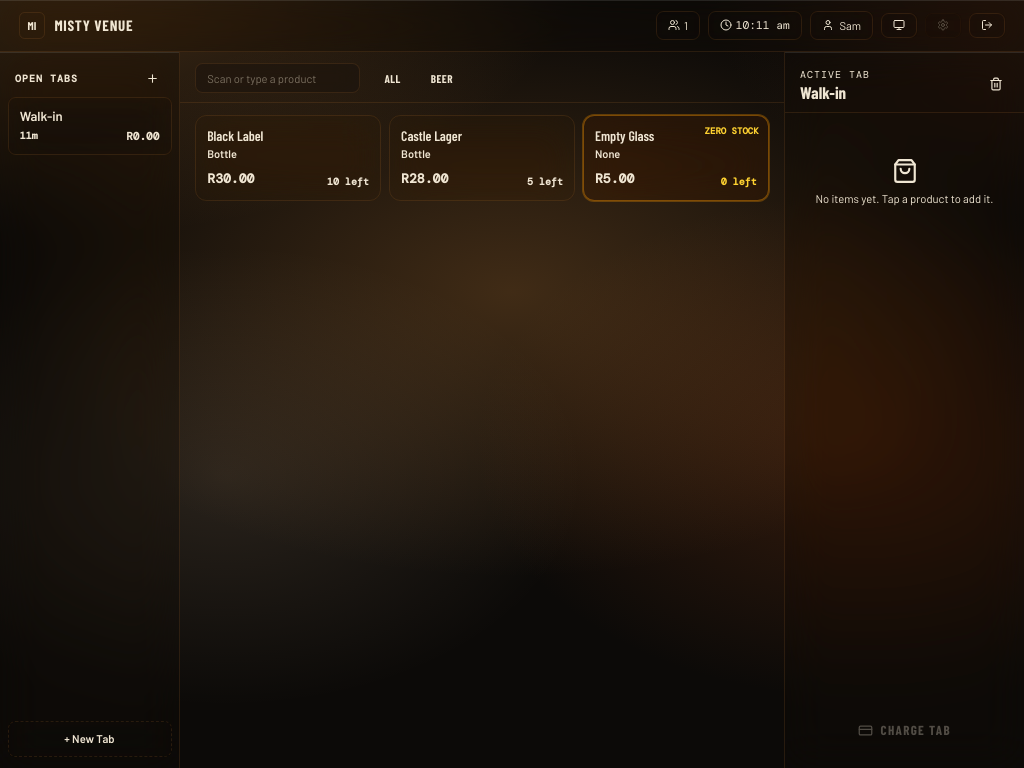
Scenario: cart notifications › confirms one product, a repeat add, a scan, and a second product
Step 1. Click the button with aria-label "Add Black Label" → (288, 158), box [195,115,381,201]
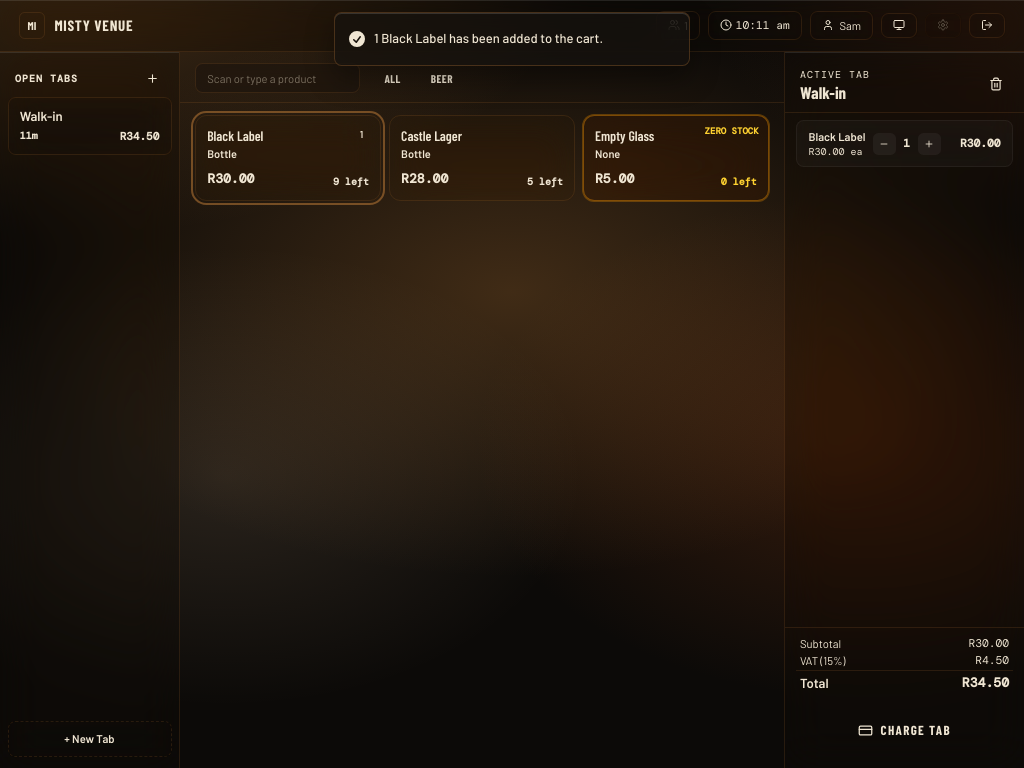
Check: the text "1 Black Label has been added to the cart." is shown, box [374,29,603,48]
Check: the text named "Quantity 1" is shown, box [903,136,910,150]
Step 2. Click the button with aria-label "Add Black Label" → (288, 158), box [195,115,381,201]
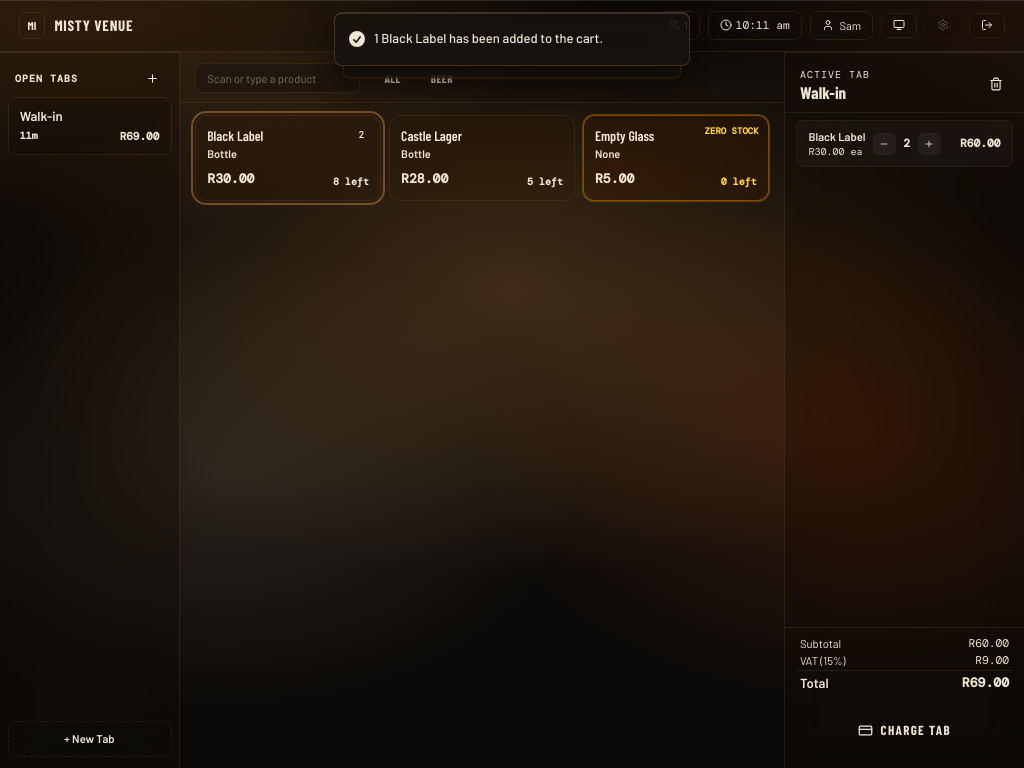
Check: the text "1 Black Label has been added to the cart." is shown 2 times
Check: the text named "Quantity 2" is shown, box [903,136,910,150]
Step 3. Type "Castle Lager" into the field named "Scan product" → (278, 78), box [195,63,360,93]
Then press Enter
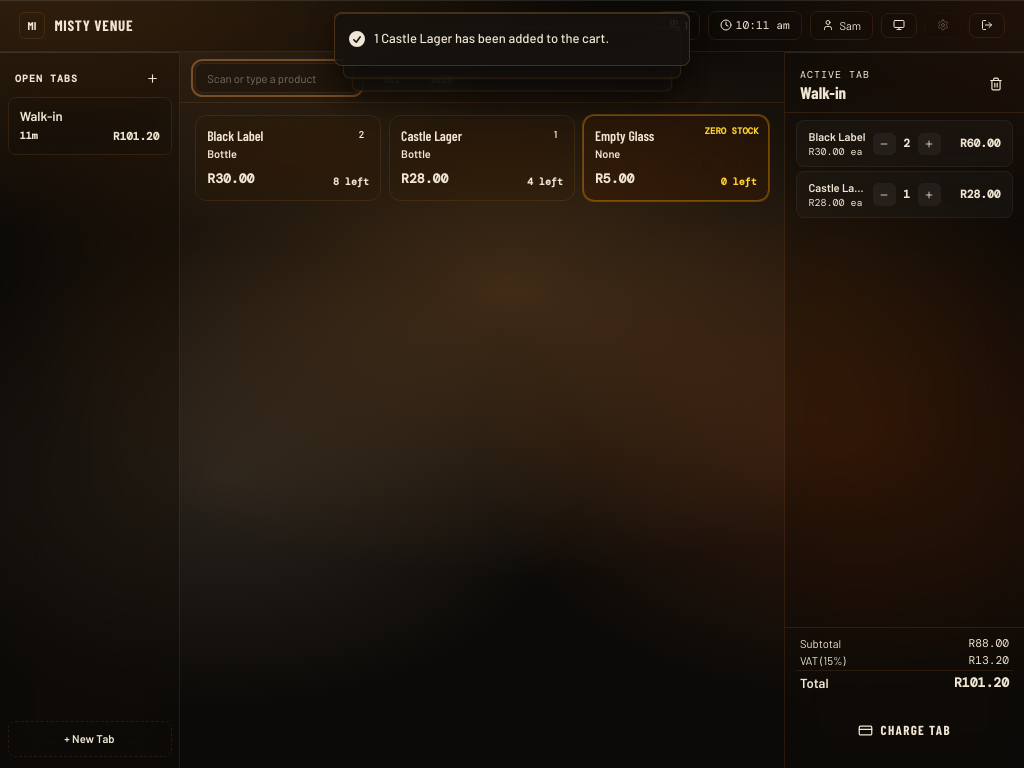
Check: the text "1 Castle Lager has been added to the cart." is shown, box [374,29,609,48]
Check: the text named "Quantity 1" is shown, box [903,187,910,201]
